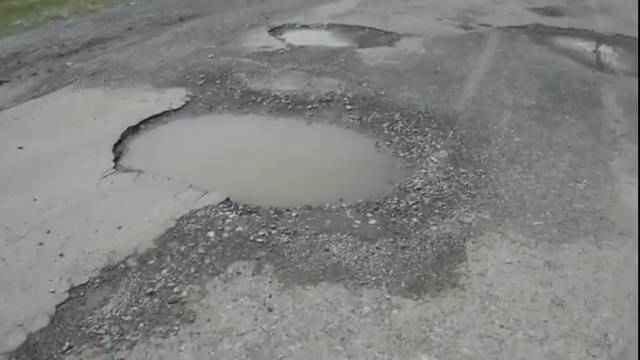pothole: (234, 138, 344, 205)
